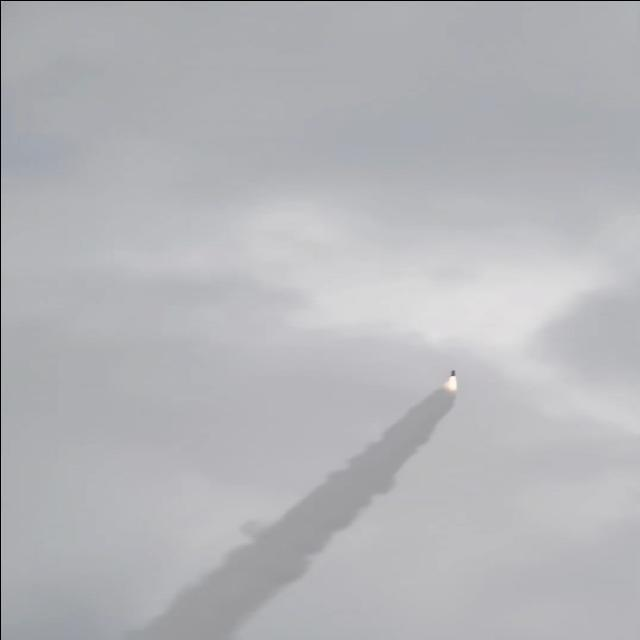missile: (450, 369, 456, 377)
